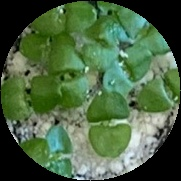Basil: (87, 94, 127, 159), (116, 8, 170, 56), (100, 50, 152, 98), (0, 75, 57, 116), (32, 1, 97, 34), (83, 14, 120, 71), (139, 66, 181, 113), (18, 32, 85, 60), (53, 56, 91, 105), (46, 127, 80, 181)
